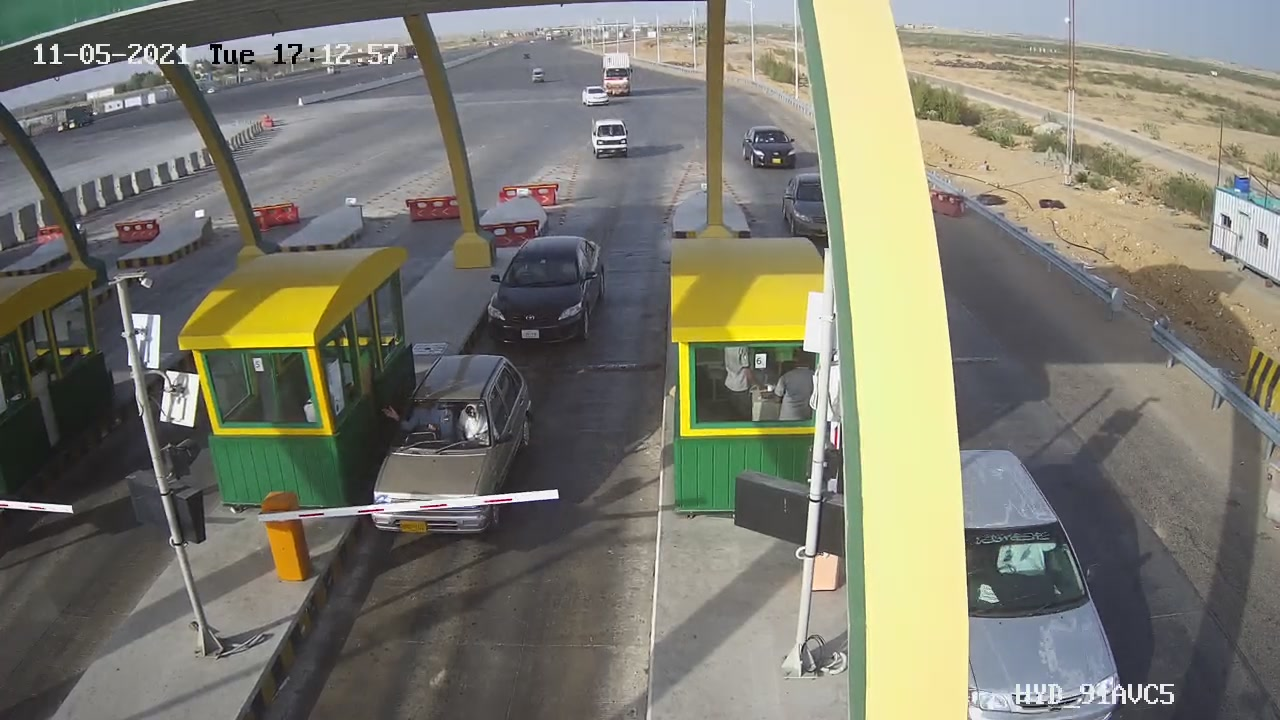F1: (353, 342, 556, 556), (470, 218, 620, 361)
